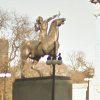Statue: (15, 8, 78, 70)
